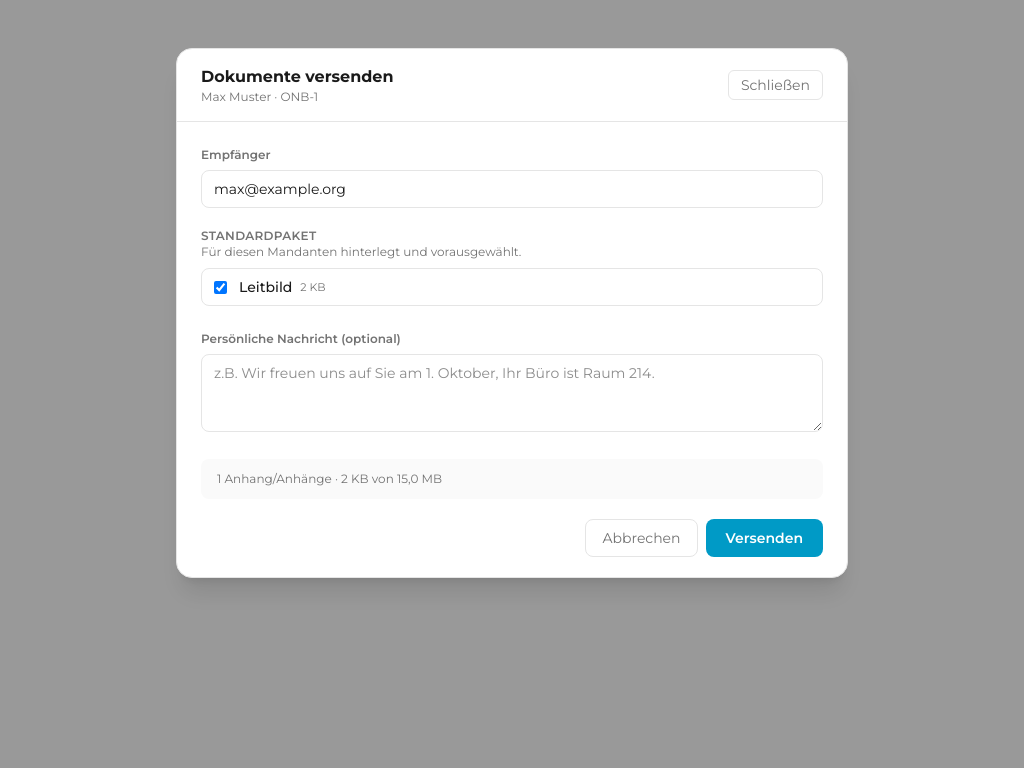
Empfaengeradresse › prueft die Domain im Browser, ohne dafuer erneut zu fragen
Check: the button "Versenden" is enabled, box [706,519,823,557]
Replace the text in the field showing "max@example.org" with "dieb@gmail.com" at (512, 189), box [201,170,823,208]
Wait 500 ms
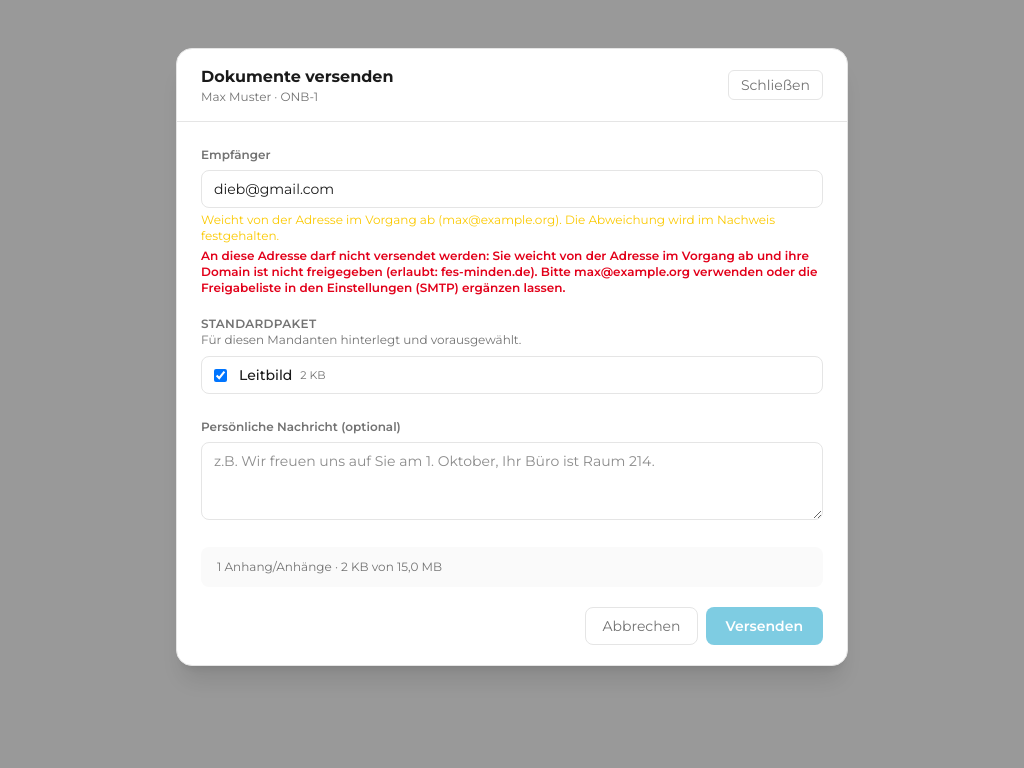
Check: the button "Versenden" is disabled, box [706,607,823,645]
Check: the text "An diese Adresse darf nicht versendet werden" is shown, box [201,248,809,279]
Check: the text "erlaubt: fes-minden.de" is shown, box [383,264,535,279]
